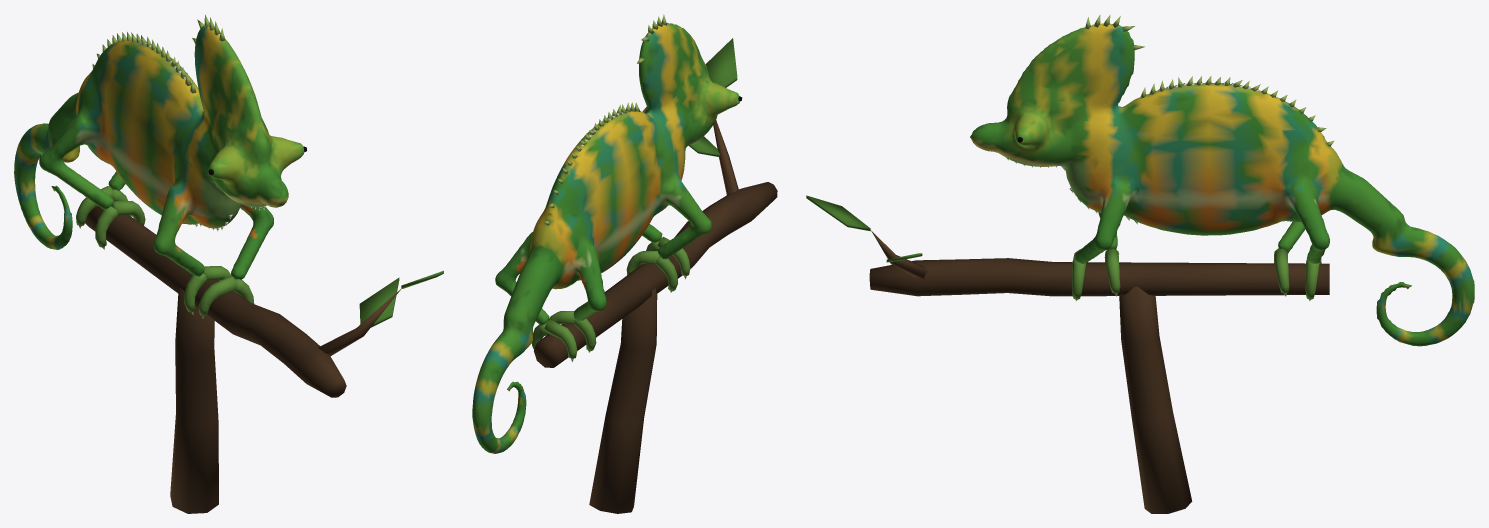
The model's file is VeiledChameleon.fbx.
The picture shows the model from 3 angles, left to right: view 1: azimuth 30°, elevation 25°; view 2: azimuth 150°, elevation 25°; view 3: azimuth 270°, elevation 25°; orthographic projection. The views are drawn at different scales.
Visible parts, largest first — view 1: VeiledChameleon; view 2: VeiledChameleon; view 3: VeiledChameleon.
Boxes of the visible parts, x1=… form: VeiledChameleon: x1=14, y1=14, x2=443, y2=513; VeiledChameleon: x1=472, y1=14, x2=777, y2=513; VeiledChameleon: x1=806, y1=14, x2=1474, y2=513.
Size of the model in its own units: 0.2008 by 0.6685 by 0.8304.
